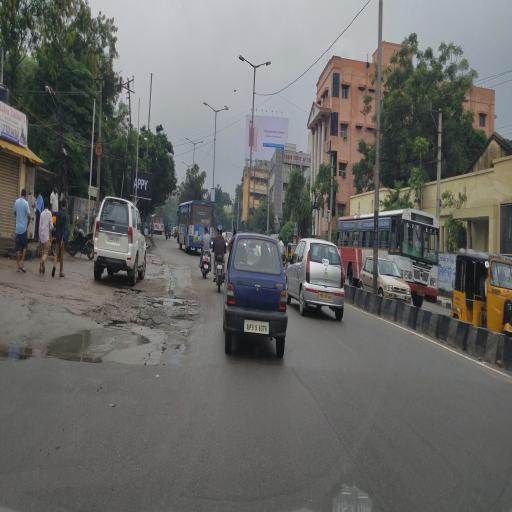street_light_0: (250, 47, 282, 77), (232, 50, 257, 78), (202, 88, 219, 124), (214, 93, 232, 123), (193, 134, 205, 152), (184, 129, 195, 148)
